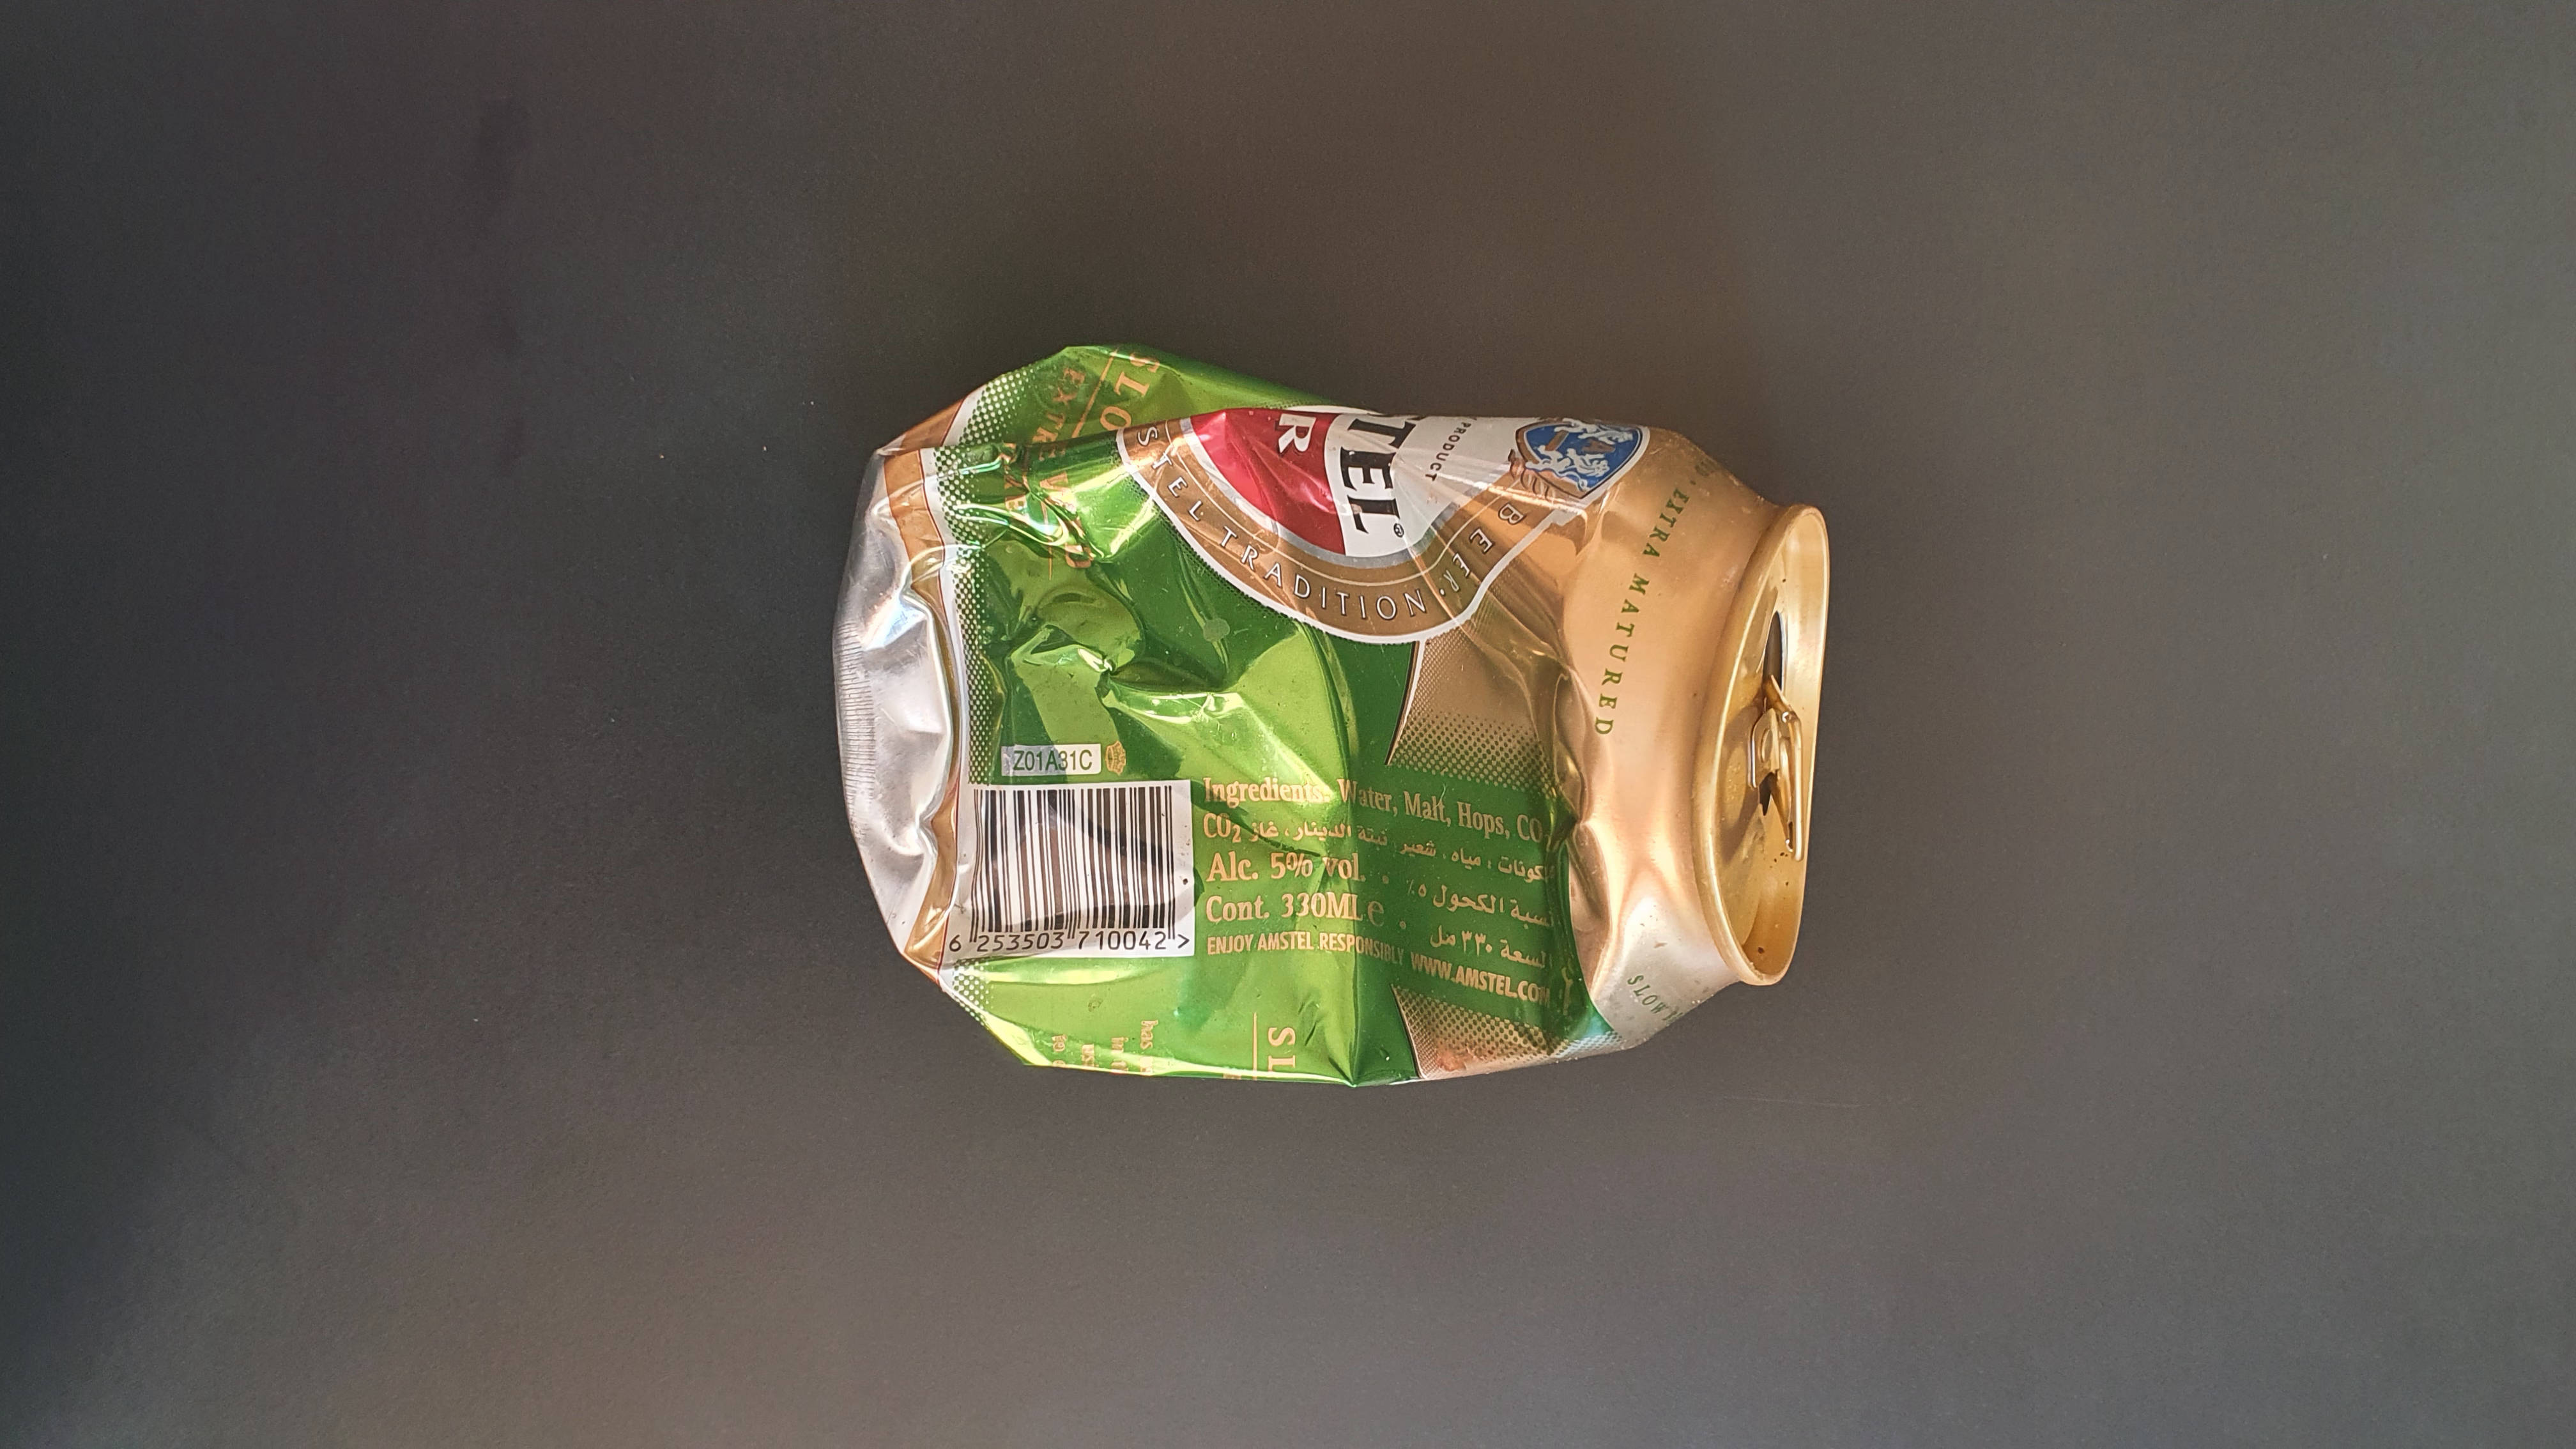metal: (798, 308, 1863, 1177)
